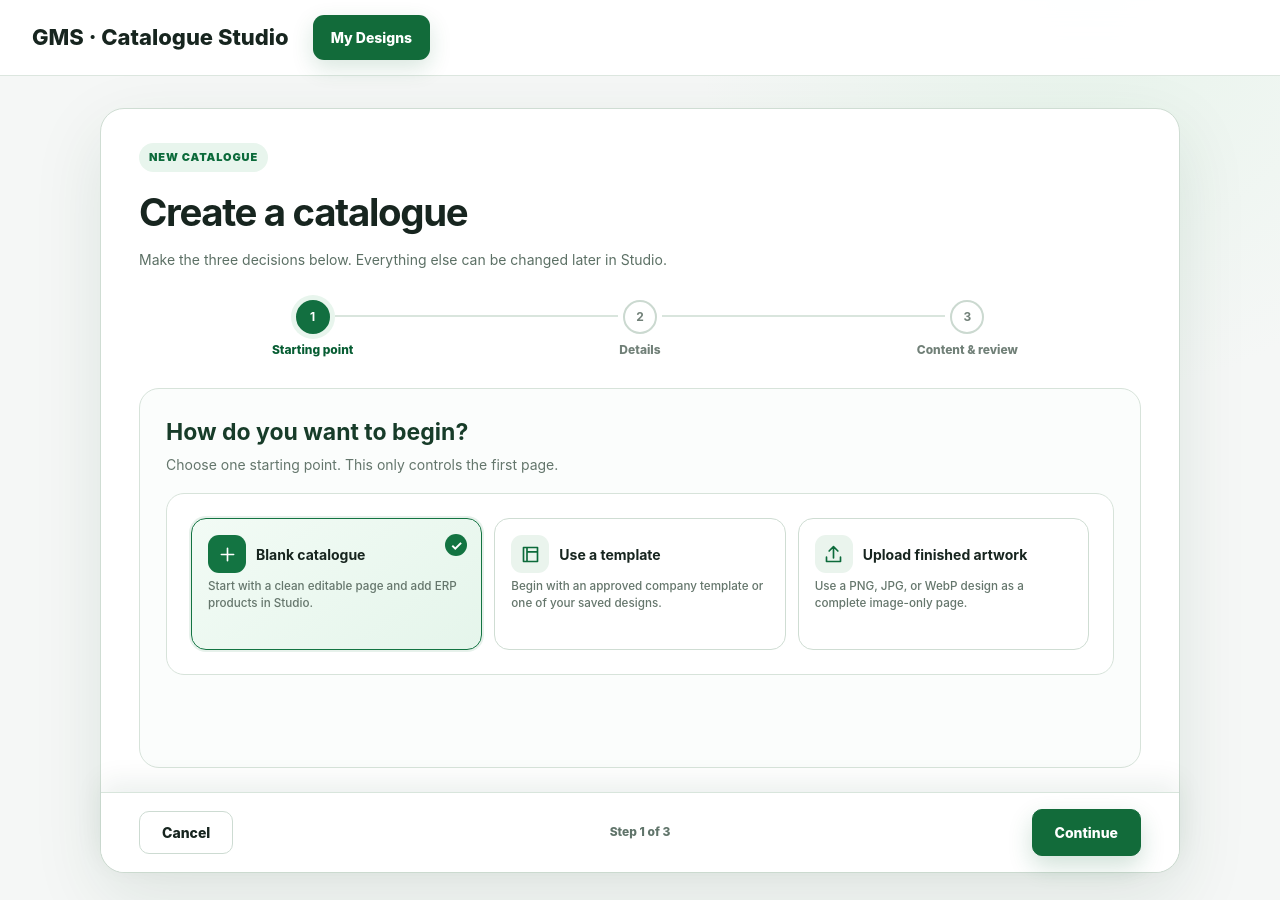
Studio creation workflow › keeps promotion scheduling in the final third step
The image size is (1280, 900).
Click the button "Continue" at (1086, 832), box [1032, 809, 1141, 856]
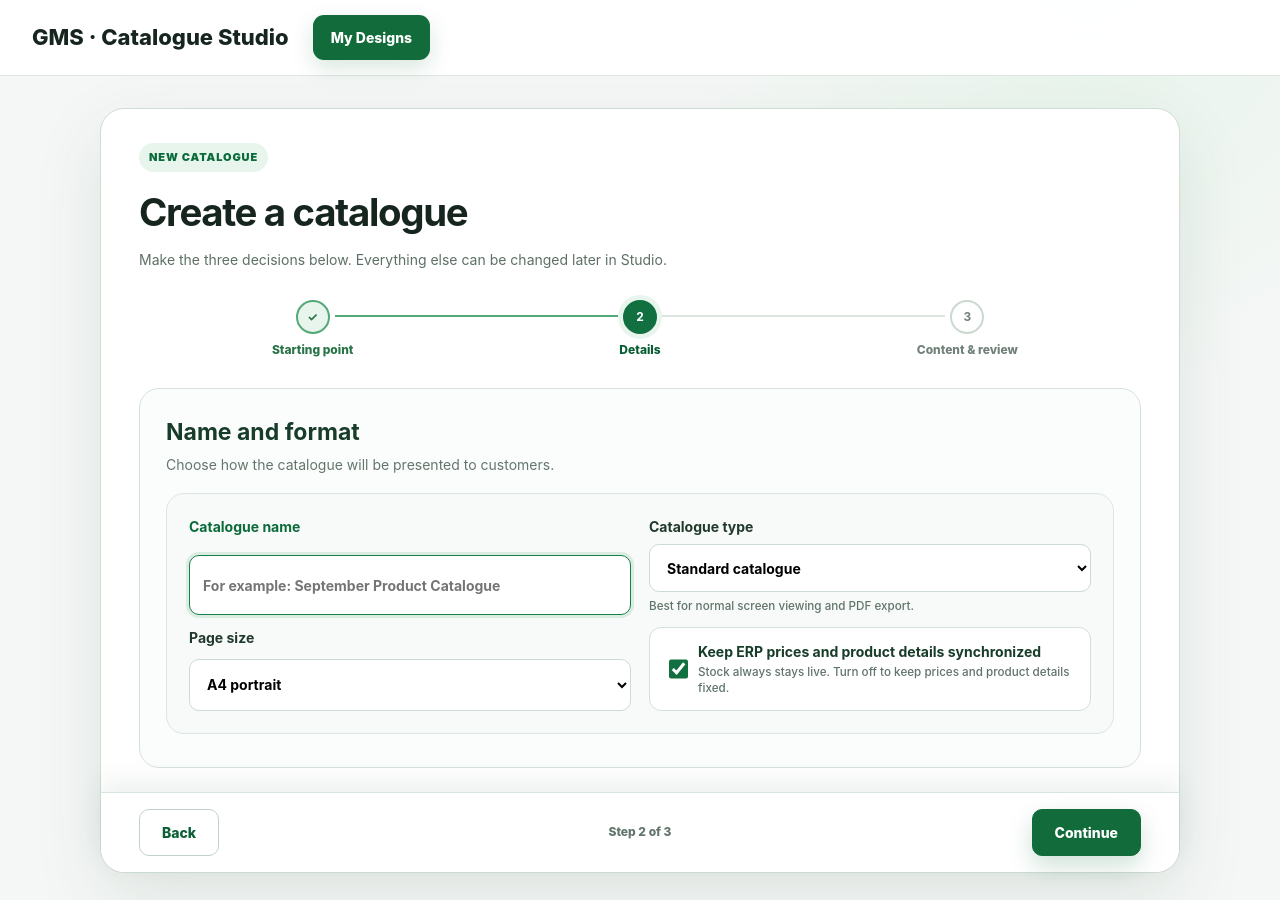
Type "New Year" into the field labelled "Catalogue name" at (410, 585), box [189, 555, 631, 615]
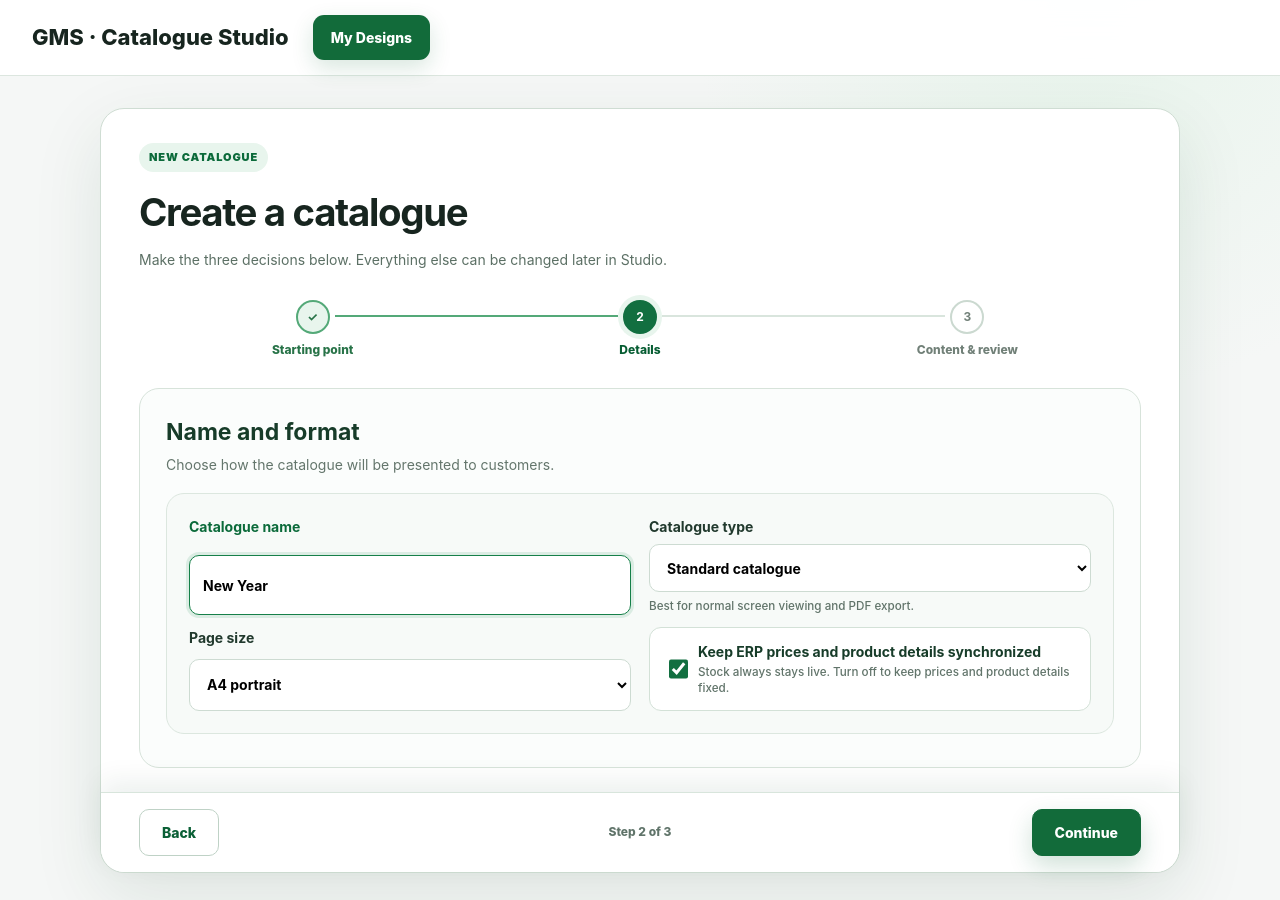
Select "Promotion catalogue" in the dropdown labelled "Catalogue type" at (870, 568), box [649, 544, 1091, 592]
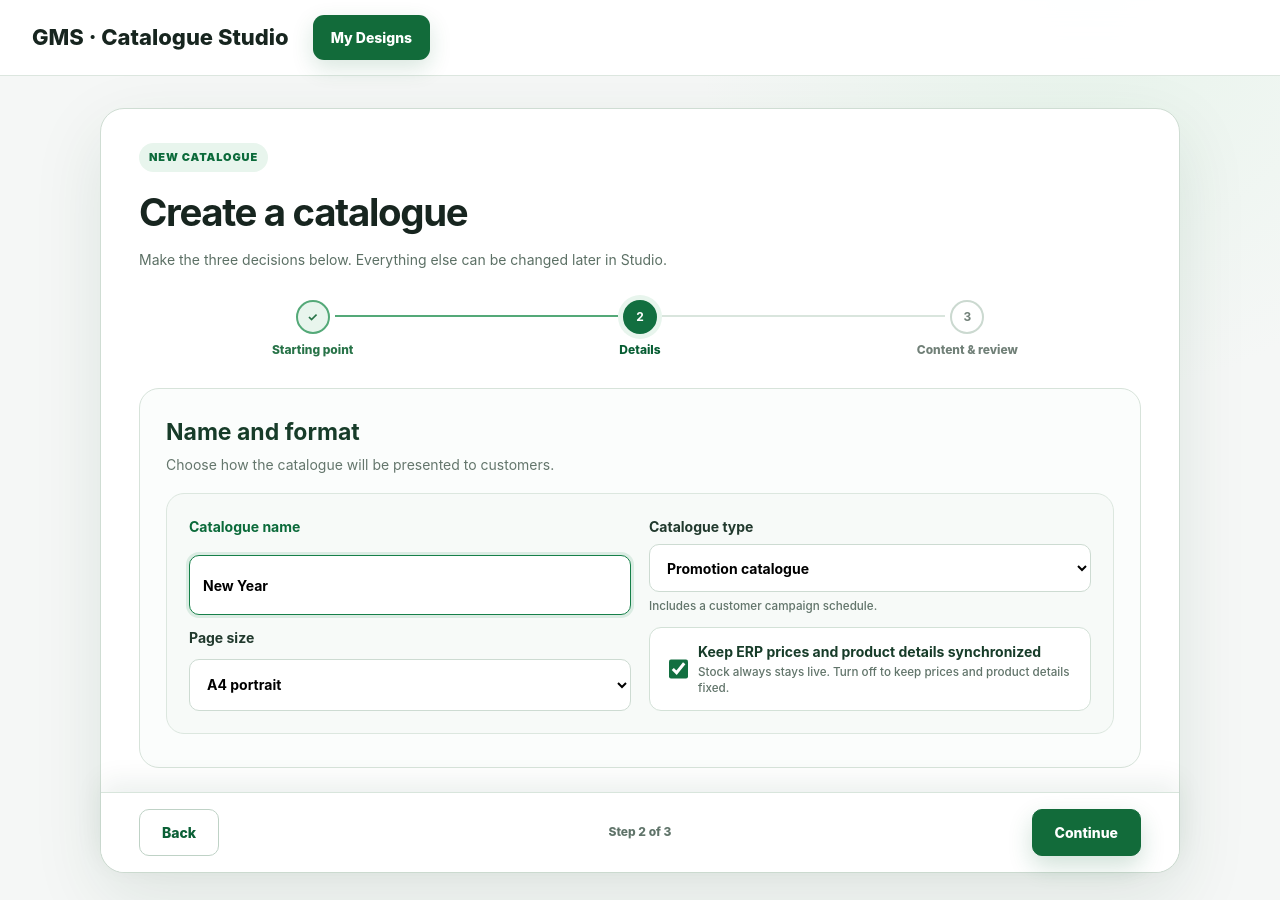
Click the button "Continue" at (1086, 832), box [1032, 809, 1141, 856]
(page scrolled)
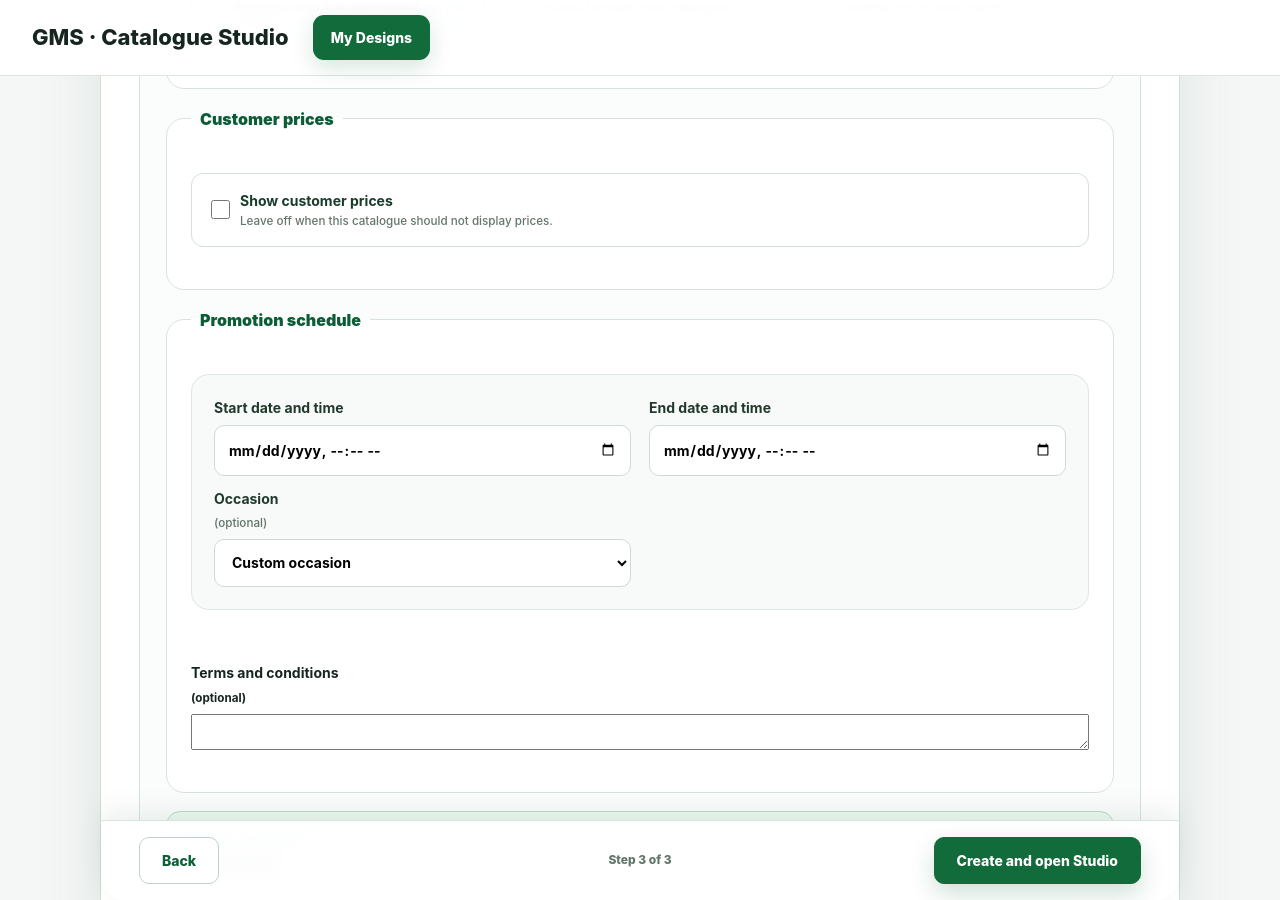
Check: the text "Step 3 of 3" is shown, box [608, 852, 672, 870]
Check: the field labelled "Start date and time" is shown, box [214, 425, 631, 476]
Check: the field labelled "End date and time" is shown, box [649, 425, 1066, 476]
